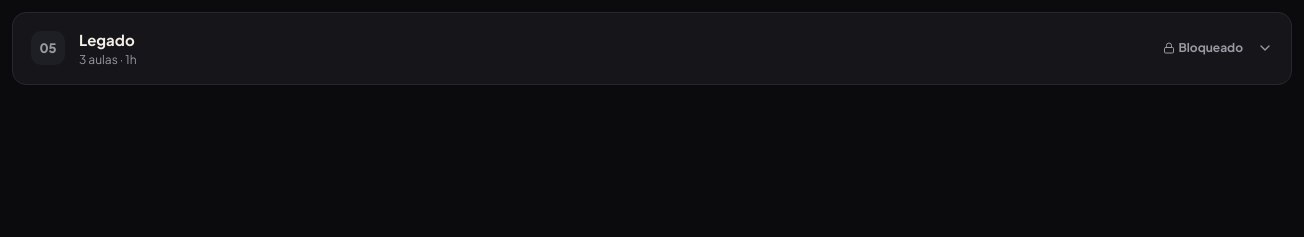
Test case: AcordeaoModulos: aulas travadas › mostra o motivo de cada bloqueio e a aula travada não é link
Click the button "05 Legado 3 aulas · 1h Bloqueado". click: (48, 48)
box: [13, 13, 1291, 84]
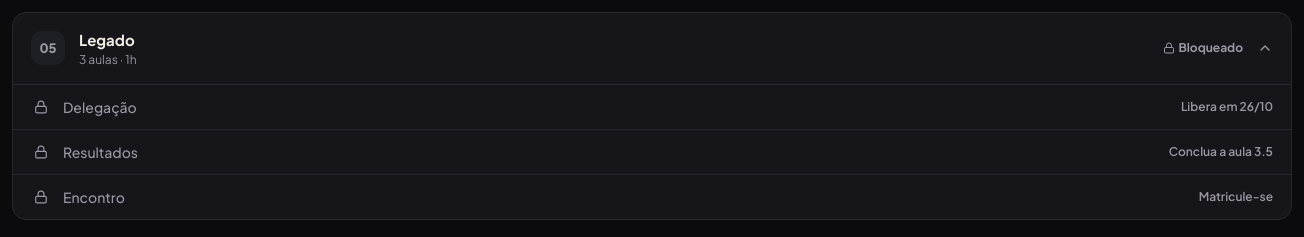
Expected: the text "Libera em 26/10" is shown, [1181, 98, 1273, 114]
Expected: the text "Conclua a aula 3.5" is shown, [1169, 144, 1273, 160]
Expected: the text "Matricule-se" is shown, [1199, 188, 1273, 204]
